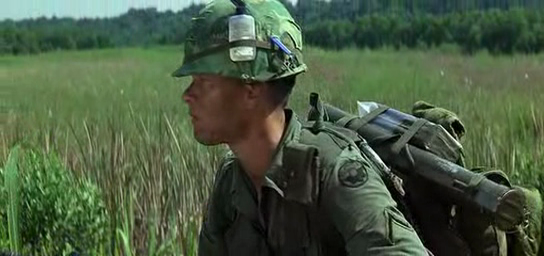face: (181, 73, 226, 146)
mcu: (1, 1, 544, 256)
person: (172, 1, 434, 256)
